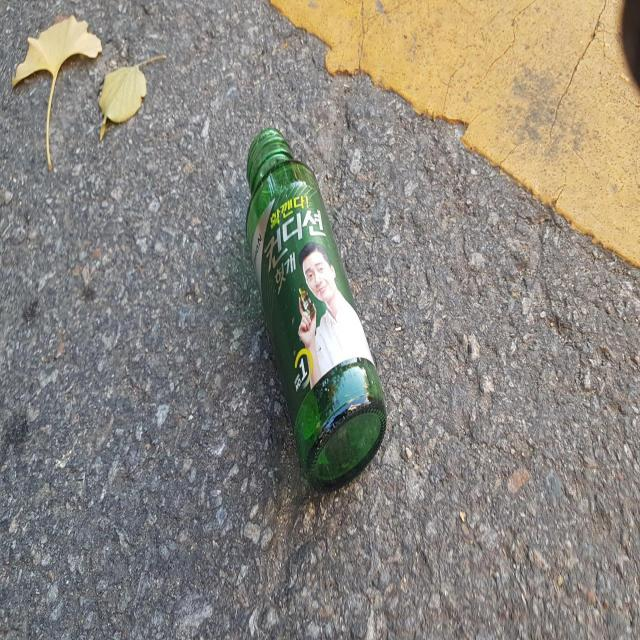glass: (246, 126, 387, 489)
